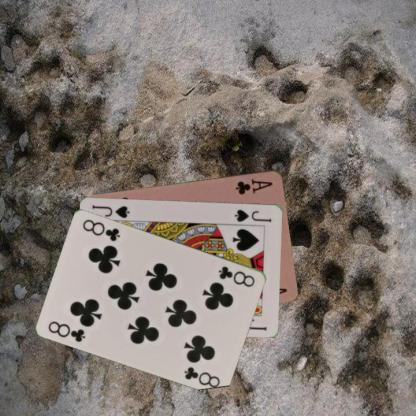8c: (46, 318, 89, 343), (216, 263, 257, 288)
Ac: (233, 176, 274, 196)
Js: (232, 206, 273, 223)
